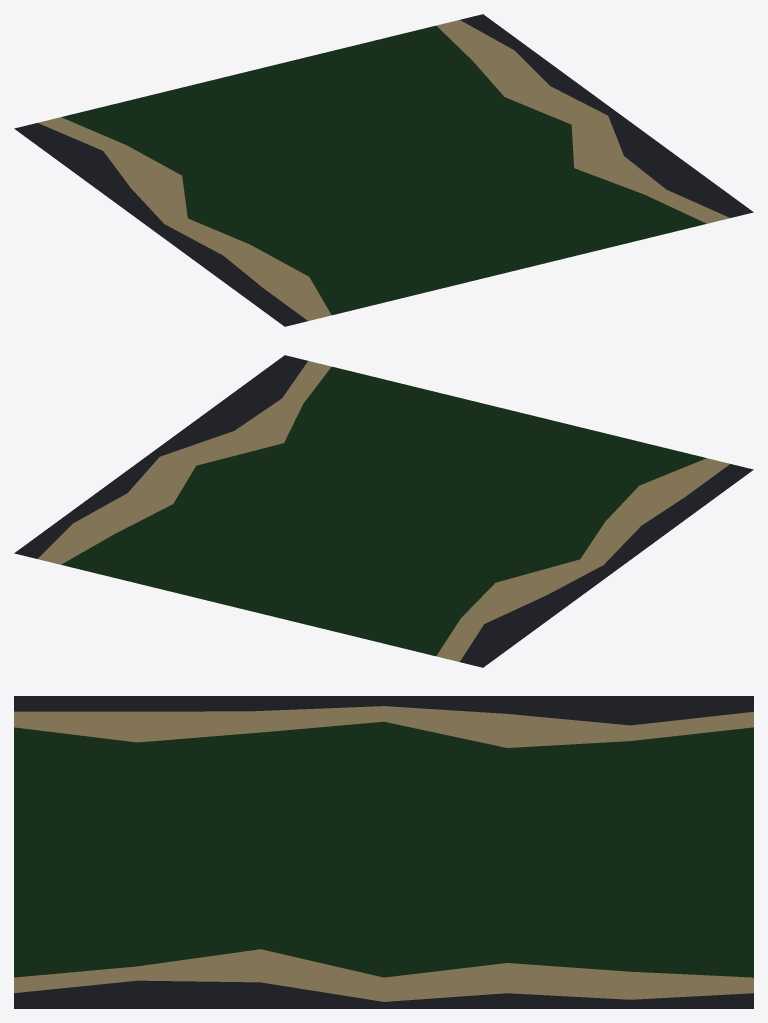
Rendered from terrain_plains_neck1.fbx.
3 renders of one model, top to bottom at view 1: azimuth 30°, elevation 25°; view 2: azimuth 150°, elevation 25°; view 3: azimuth 270°, elevation 25°, orthographic. The views are drawn at different scales.
Parts seen in each view (by area): view 1: terrain_plains_neck1; view 2: terrain_plains_neck1; view 3: terrain_plains_neck1.
Part boxes in pixels (box(x1,y1,x2,y2)): terrain_plains_neck1: box(14, 14, 753, 326); terrain_plains_neck1: box(14, 355, 753, 667); terrain_plains_neck1: box(14, 696, 753, 1008).
Size of the model in its own units: 10 by 0.027 by 10.
